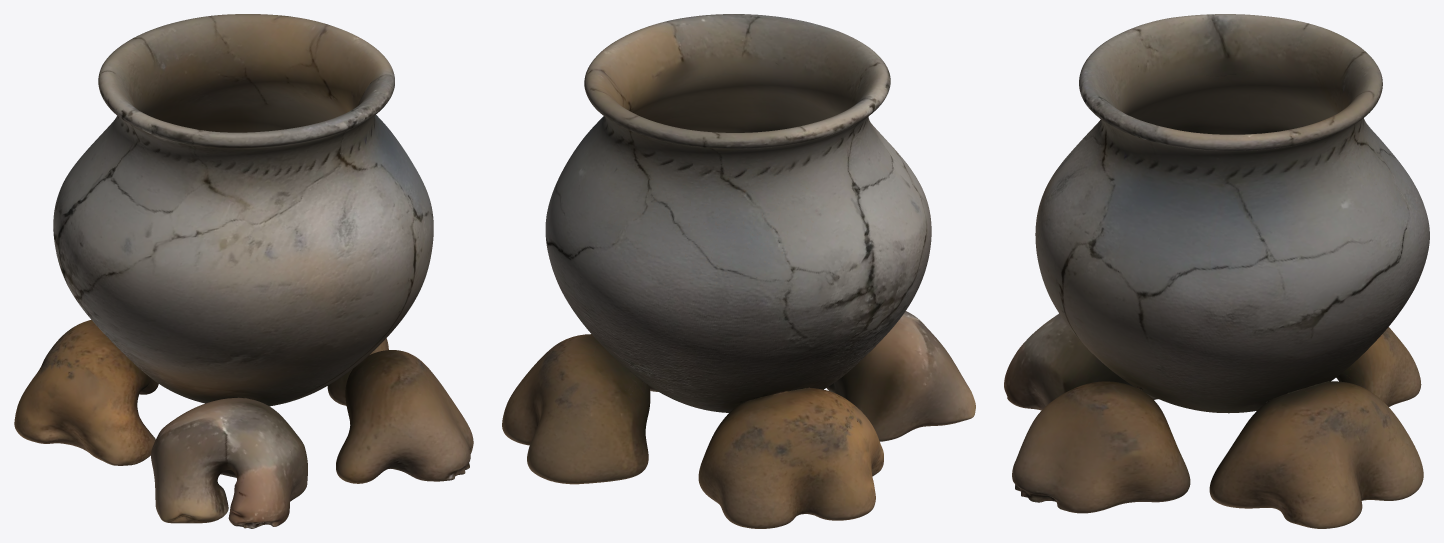
Rendered from 033-arheologicheskiy-sosud-na-podstavkah.glb.
3 views of the same model, side by side, from view 1: azimuth 30°, elevation 25°; view 2: azimuth 150°, elevation 25°; view 3: azimuth 270°, elevation 25° (orthographic). The views are drawn at different scales.
Parts seen in each view (by area): view 1: node_0; view 2: node_0; view 3: node_0.
Part boxes in pixels (bbox=[...]): node_0: bbox=[14, 14, 473, 528]; node_0: bbox=[502, 14, 975, 528]; node_0: bbox=[1004, 14, 1429, 528].
Bounding box in the file's own units: 0.8161 × 0.7692 × 0.8134.
Materials: 1 (1 with a texture image).
